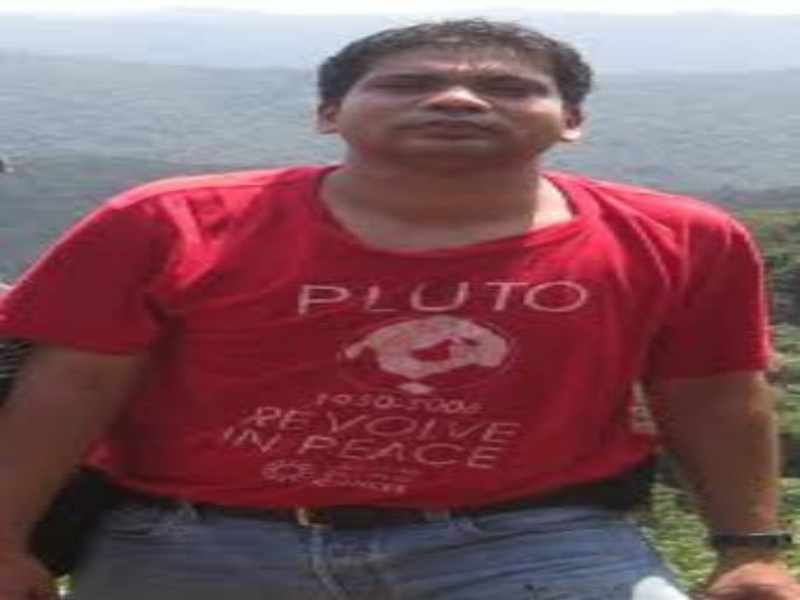TsisyArotava: (315, 12, 597, 190)
